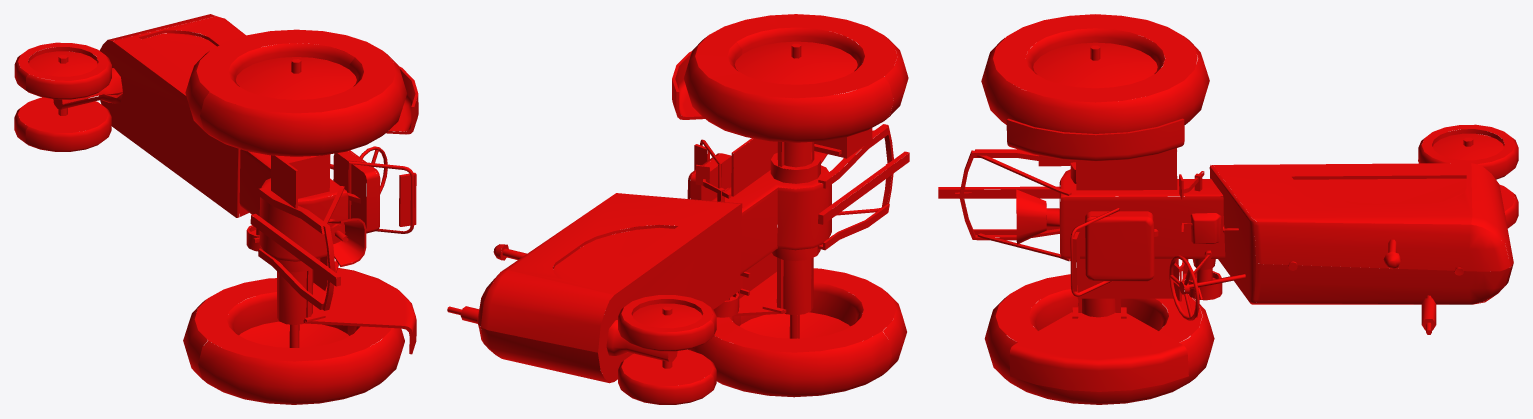
3 views of the same model, side by side, from view 1: azimuth 30°, elevation 25°; view 2: azimuth 150°, elevation 25°; view 3: azimuth 270°, elevation 25° (orthographic). The views are drawn at different scales.
Parts seen in each view (by area): view 1: Renderer Node; view 2: Renderer Node; view 3: Renderer Node.
Part boxes in pixels (x1=…): Renderer Node: x1=14, y1=14, x2=418, y2=404; Renderer Node: x1=447, y1=14, x2=909, y2=404; Renderer Node: x1=938, y1=14, x2=1518, y2=404.
Bounding box in the file's own units: 1.14 × 1.23 × 1.99.
Materials: 1 (1 with a texture image).
